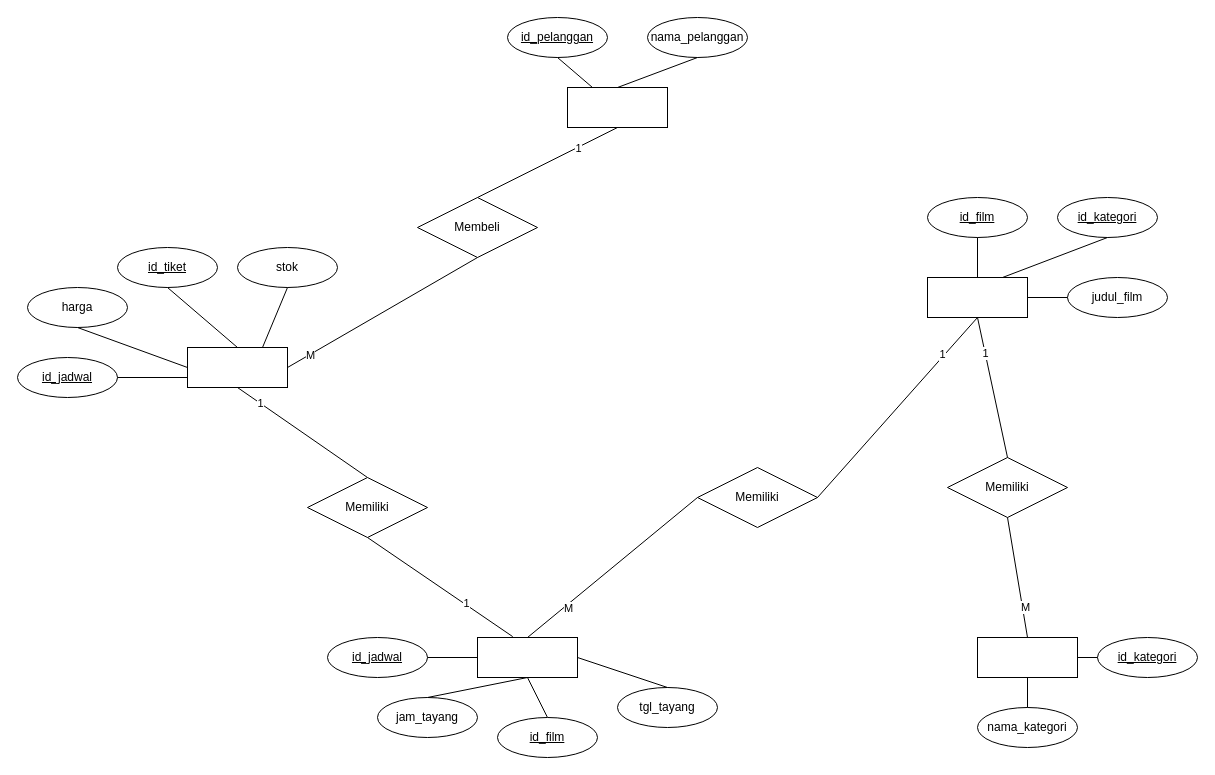
Some shapes in this 1215 by 775 pixel diagram are drawn without their labels. Each missing label, with the centre of its shape:
"FILM" goes at (x=977, y=297).
"JADWAL" goes at (x=527, y=657).
"KATEGORI" goes at (x=1027, y=657).
"PELANGGAN" goes at (x=617, y=107).
"TIKET" goes at (x=237, y=367).
